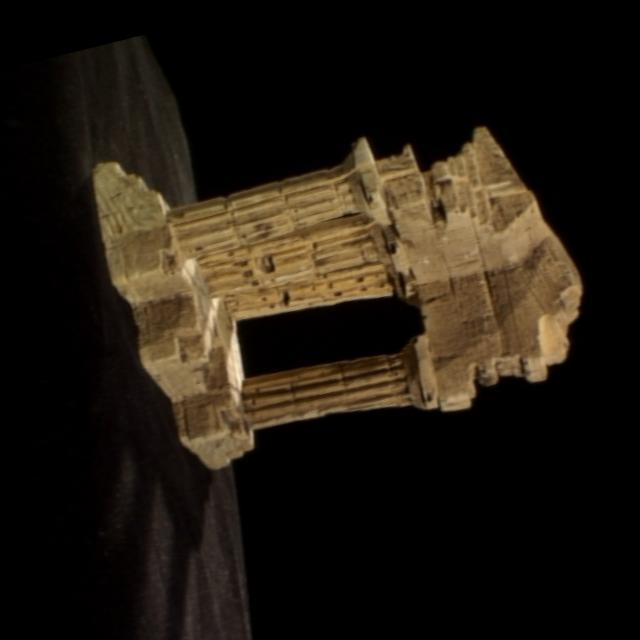Instance-Segmentation: (93, 127, 582, 467)
